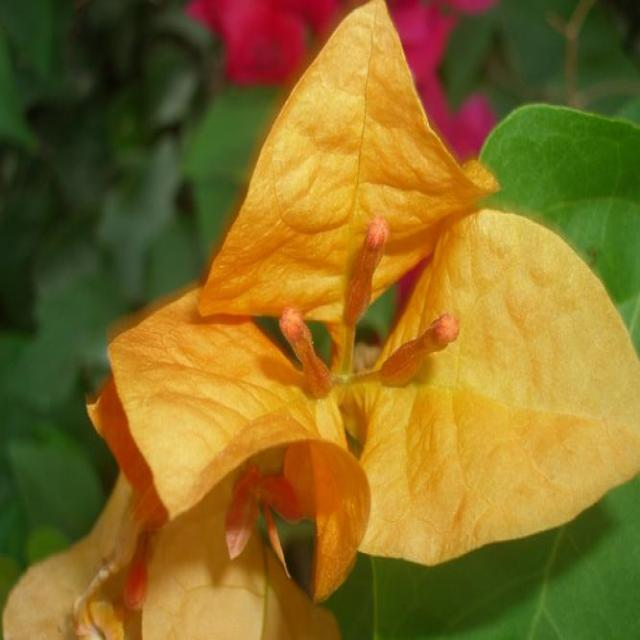bougainvillea: (41, 14, 635, 640)
